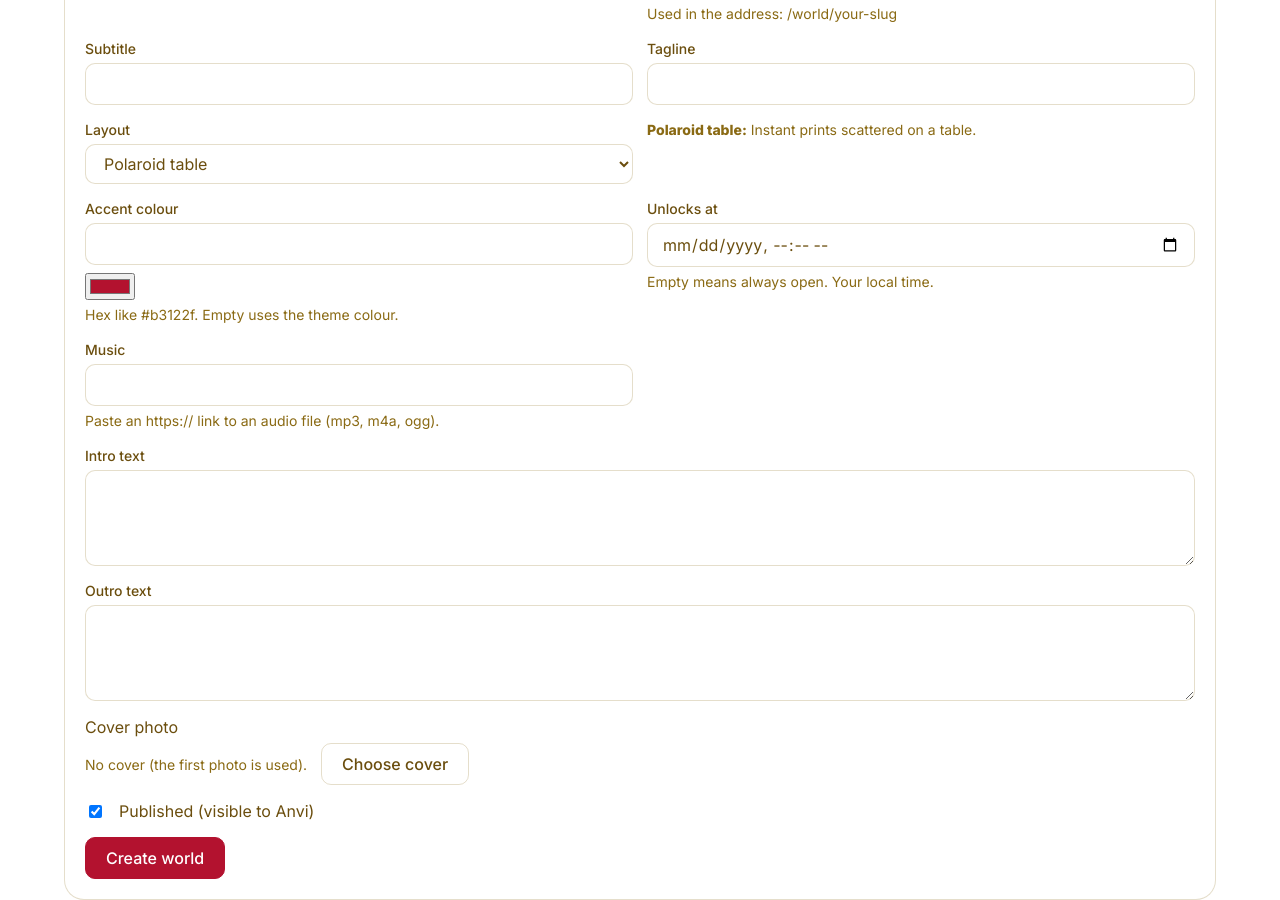
Test: WorldEditor form validation › shows field errors and sends nothing when required fields are missing
This screenshot has width=1280, height=900.
(page scrolled)
Click the button "Create world".
click(155, 858)  # box [85,837,225,879]
(page scrolled)
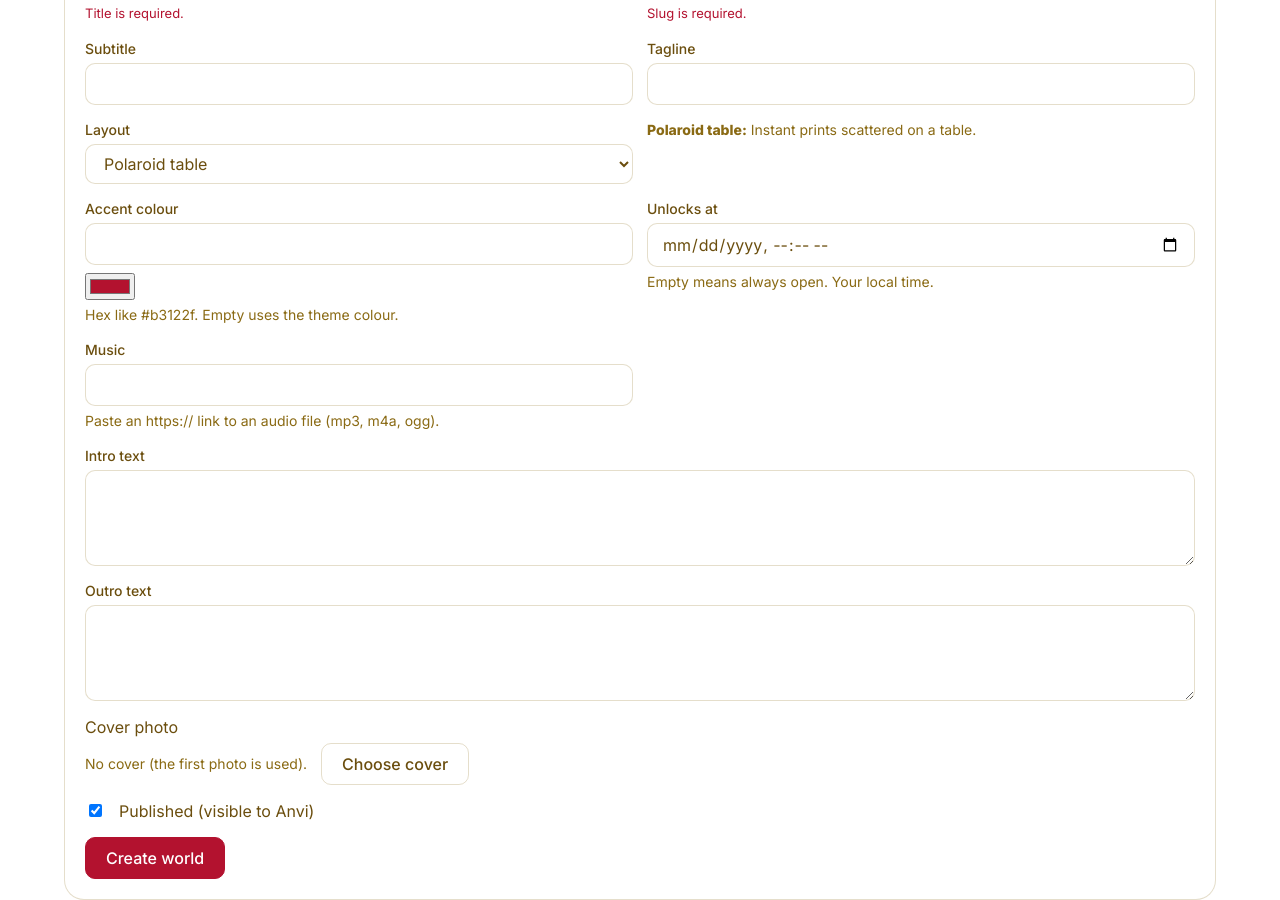
Expected: the text "Title is required." is shown, [85,5,184,21]
Expected: the text "Slug is required." is shown, [647,5,746,21]
